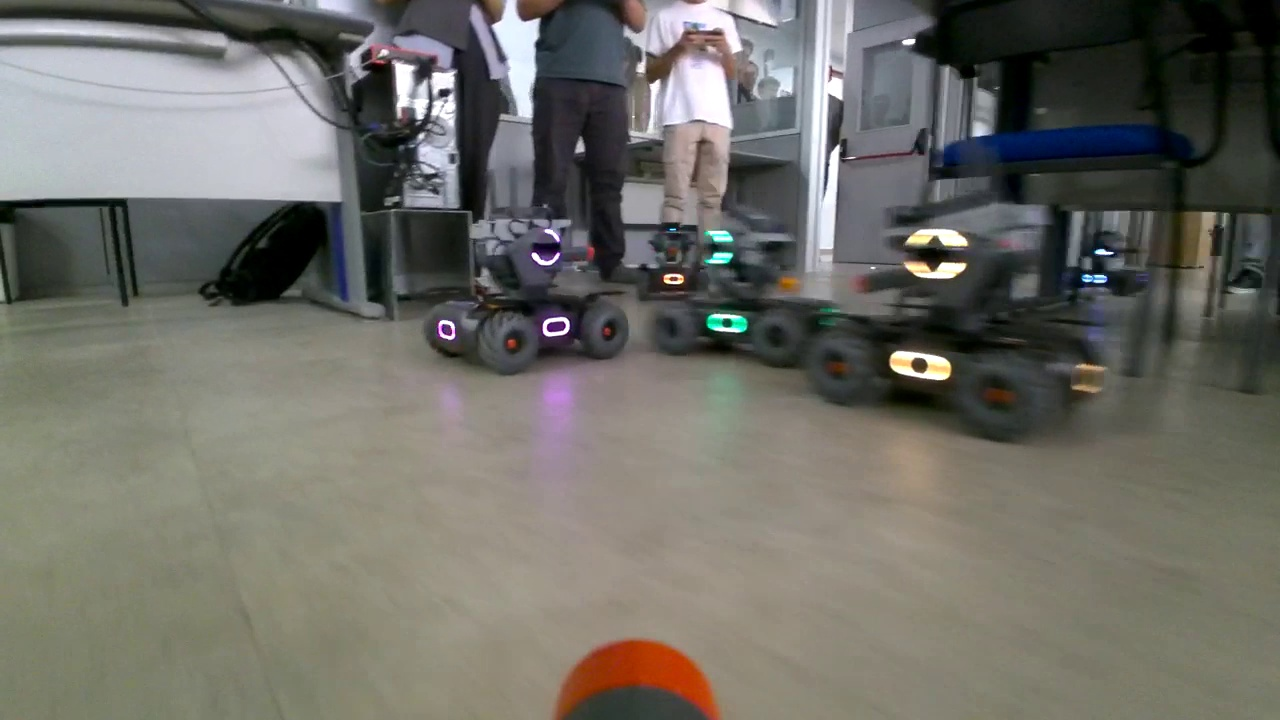robot: (811, 214, 1115, 436), (419, 182, 629, 368), (651, 208, 831, 372), (632, 213, 709, 303)
